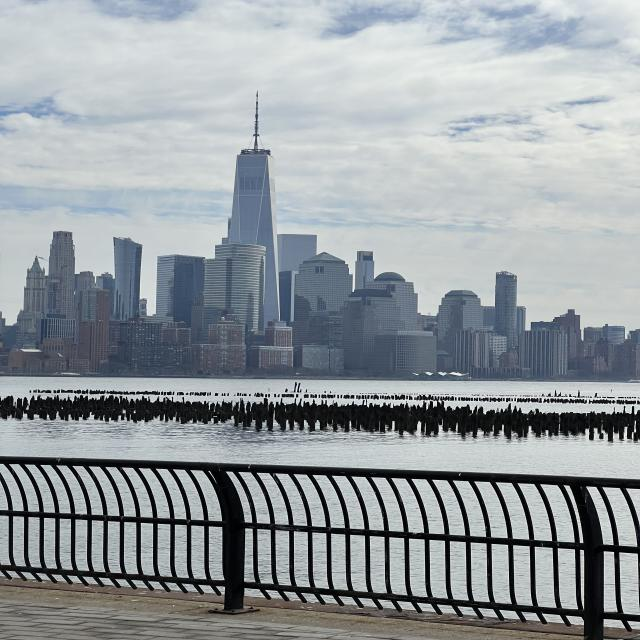WTC: (227, 91, 280, 250)
